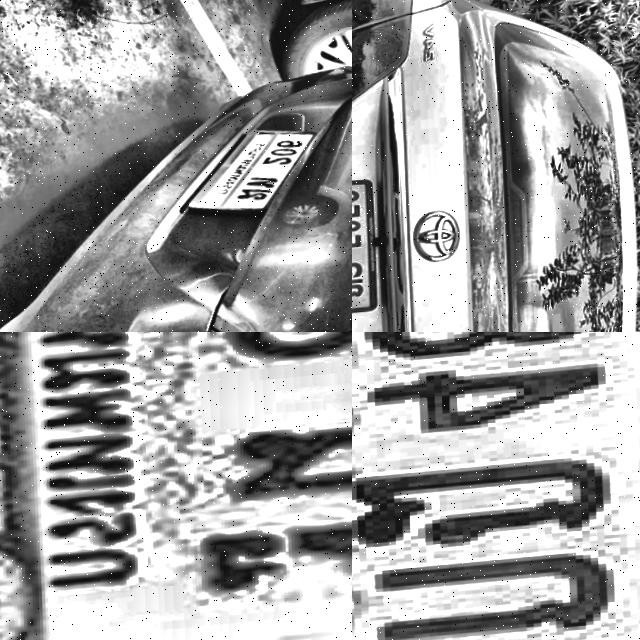license-plate: (0, 332, 352, 640), (352, 332, 640, 640), (176, 125, 323, 226), (352, 180, 377, 322)
